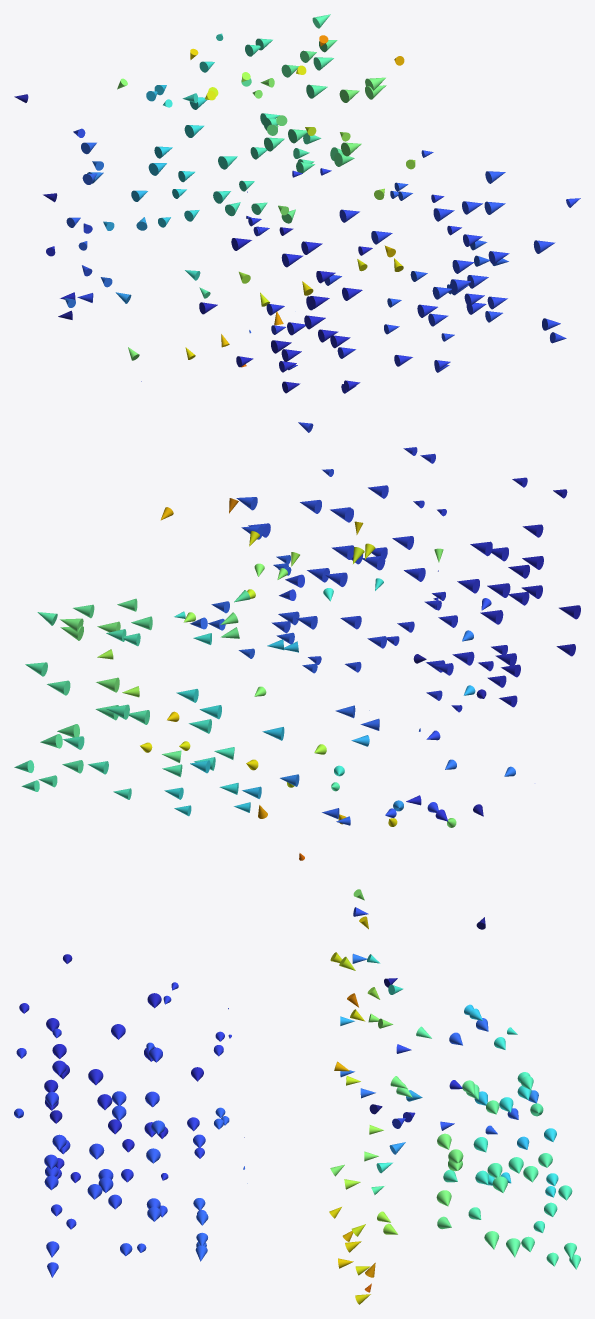
File: LineasCorrienteN2-H2O_mh2-2.70_V-1.1.glb
The picture shows the model from 3 angles, top to bottom: view 1: azimuth 30°, elevation 25°; view 2: azimuth 150°, elevation 25°; view 3: azimuth 270°, elevation 25°; orthographic projection. The views are drawn at different scales.
Size of the model in its own units: 0.000963 by 0.000814 by 0.0012.
2 materials, 2 textured.
